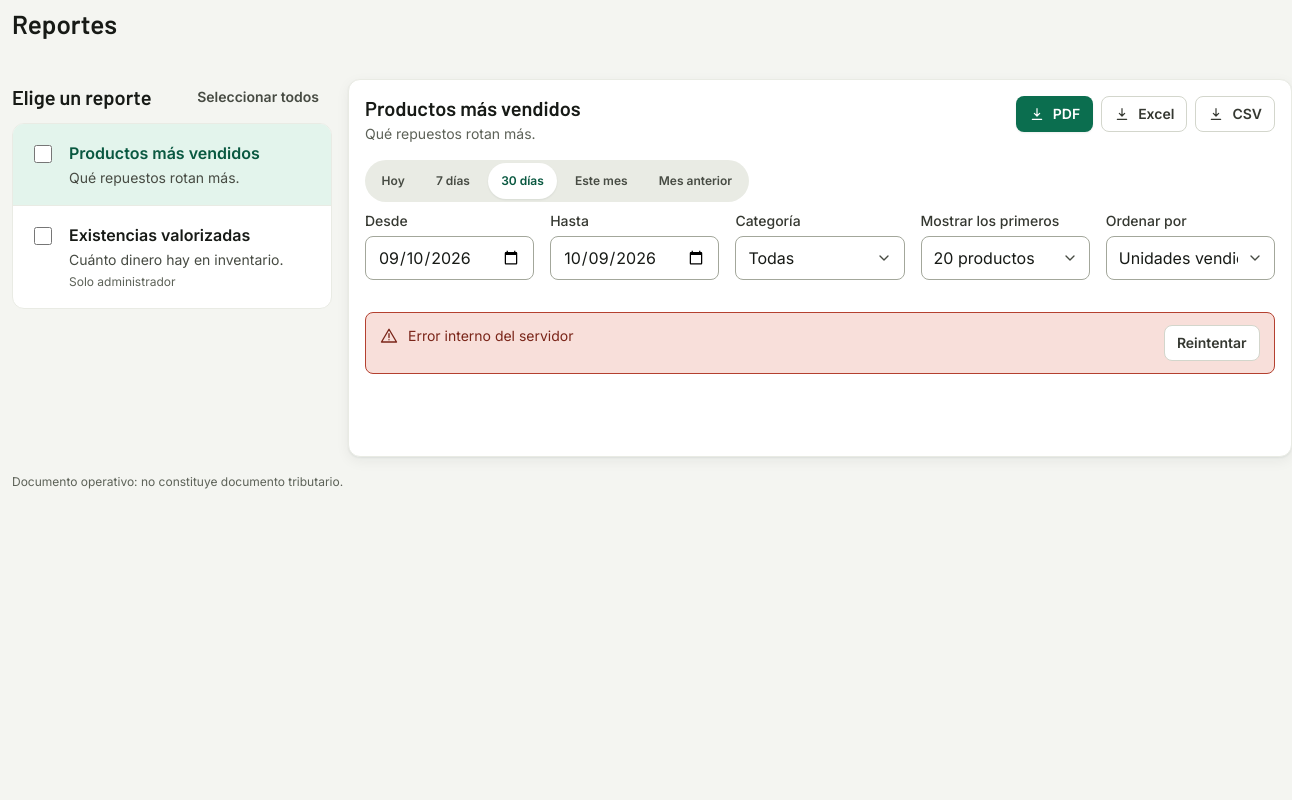
Scenario: ReportesPage › muestra el error de la API con opción de reintentar
Expected: the text "Error interno del servidor" is shown, [408,327,574,344]
Click the button "Reintentar".
click(1212, 343)  # box [1164,325,1260,361]
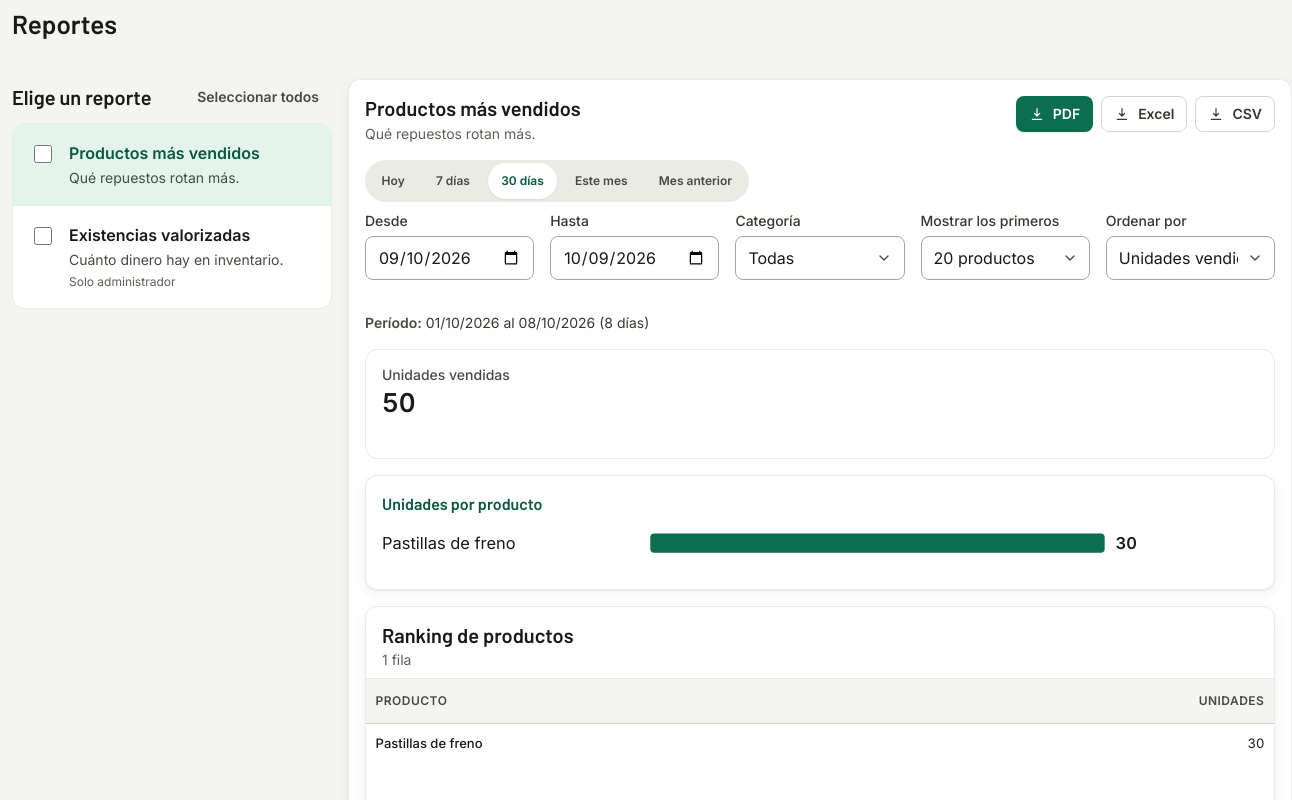
Expected: the heading "Ranking de productos" is shown, [382,623,574,647]
